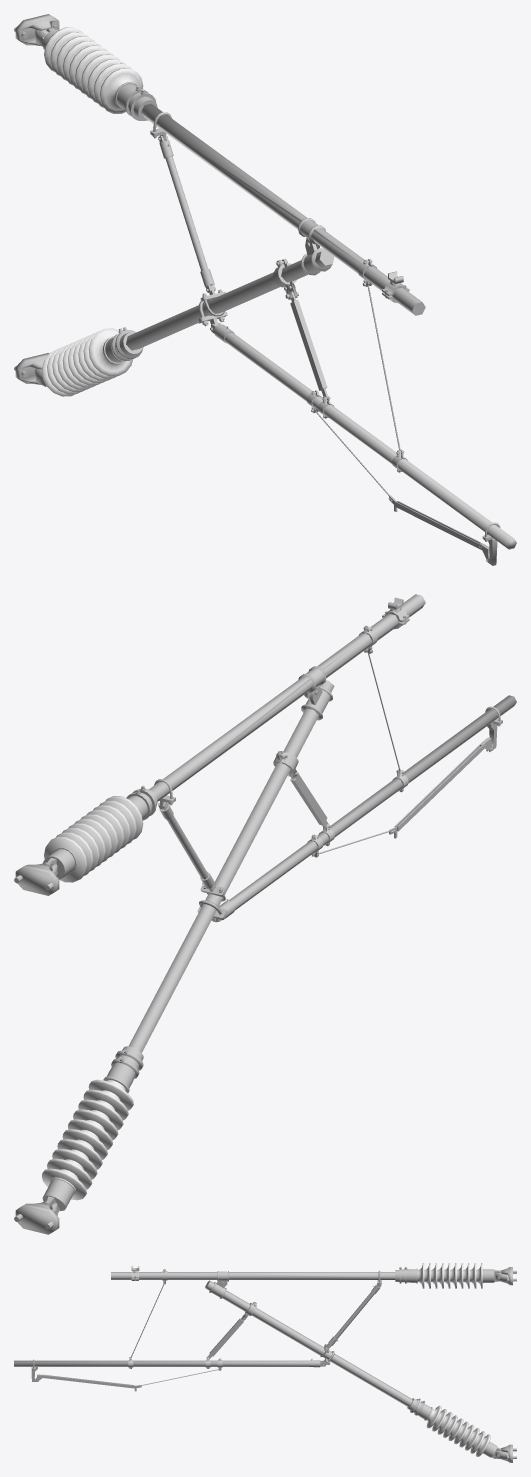
Rendered from single_anti.obj.
3 renders of one model, top to bottom at view 1: azimuth 30°, elevation 25°; view 2: azimuth 150°, elevation 25°; view 3: azimuth 270°, elevation 25°, orthographic. The views are drawn at different scales.
Parts seen in each view (by area): view 1: 1, 1.003, 1.001, 1.004, 立方体.029, 1.002, 1.005; view 2: 1, 1.003, 1.001, 1.004, 1.005; view 3: 1, 1.003, 1.001, 立方体.029, 1.004, 1.005, 1.002.
Part boxes in pixels (x1=…): 1: x1=40, y1=28, x2=516, y2=549; 1.003: x1=42, y1=27, x2=143, y2=396; 1.001: x1=306, y1=390, x2=500, y2=565; 1.004: x1=14, y1=14, x2=59, y2=46; 立方体.029: x1=290, y1=300, x2=327, y2=390; 1.002: x1=358, y1=259, x2=407, y2=472; 1.005: x1=14, y1=353, x2=49, y2=386; 1: x1=42, y1=594, x2=516, y2=1214; 1.003: x1=42, y1=796, x2=143, y2=1200; 1.001: x1=307, y1=706, x2=502, y2=857; 1.004: x1=14, y1=862, x2=59, y2=895; 1.005: x1=14, y1=1200, x2=59, y2=1234; 1: x1=14, y1=1266, x2=500, y2=1458; 1.003: x1=417, y1=1263, x2=490, y2=1456; 1.001: x1=31, y1=1358, x2=222, y2=1391; 立方体.029: x1=209, y1=1318, x2=243, y2=1356; 1.004: x1=495, y1=1267, x2=516, y2=1285; 1.005: x1=495, y1=1444, x2=516, y2=1462; 1.002: x1=128, y1=1269, x2=167, y2=1368.
Size of the model in its own units: 0.24 by 1.99 by 4.65.
